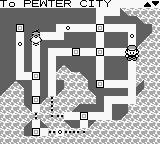main: (124, 45, 139, 61)
mo: (30, 29, 43, 45)
